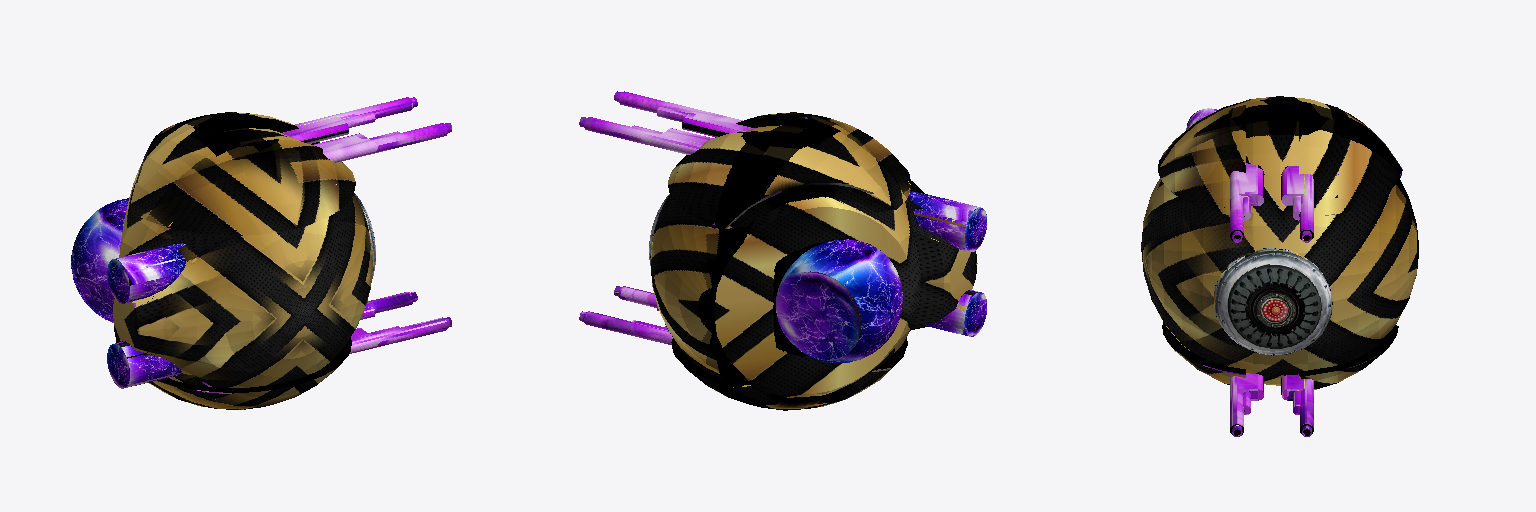
3 renders of one model, left to right at view 1: azimuth 30°, elevation 25°; view 2: azimuth 150°, elevation 25°; view 3: azimuth 270°, elevation 25°, orthographic.
Visible parts, largest first — view 1: Sphere.022_Sphere.048, Sphere.023_Sphere.049, Sphere.011_Sphere.037, Sphere.025_Sphere.051, Sphere.024_Sphere.050, Sphere.021_Sphere.047, Sphere.020_Sphere.046, Sphere.018_Sphere.044; view 2: Sphere.022_Sphere.048, Sphere.023_Sphere.049, Sphere.025_Sphere.051, Sphere.011_Sphere.037, Sphere.024_Sphere.050, Sphere.021_Sphere.047, Sphere.020_Sphere.046, Sphere.019_Sphere.045; view 3: Sphere.022_Sphere.048, Sphere.023_Sphere.049, Sphere.015_Sphere.041, Sphere.011_Sphere.037, Sphere.024_Sphere.050.
Boxes of the visible parts, <box> form: Sphere.022_Sphere.048: <box>113,128,372,387</box>; Sphere.023_Sphere.049: <box>129,112,355,235</box>; Sphere.011_Sphere.037: <box>282,97,451,353</box>; Sphere.025_Sphere.051: <box>71,198,128,322</box>; Sphere.024_Sphere.050: <box>149,337,351,409</box>; Sphere.021_Sphere.047: <box>107,243,185,303</box>; Sphere.020_Sphere.046: <box>107,341,181,388</box>; Sphere.018_Sphere.044: <box>293,123,348,143</box>; Sphere.022_Sphere.048: <box>651,125,977,397</box>; Sphere.023_Sphere.049: <box>668,112,911,228</box>; Sphere.025_Sphere.051: <box>776,239,902,363</box>; Sphere.011_Sphere.037: <box>579,91,754,344</box>; Sphere.024_Sphere.050: <box>671,337,907,410</box>; Sphere.021_Sphere.047: <box>909,191,986,251</box>; Sphere.020_Sphere.046: <box>926,290,986,336</box>; Sphere.019_Sphere.045: <box>682,118,738,137</box>; Sphere.022_Sphere.048: <box>1141,110,1418,385</box>; Sphere.023_Sphere.049: <box>1158,96,1402,217</box>; Sphere.015_Sphere.041: <box>1214,248,1331,355</box>; Sphere.011_Sphere.037: <box>1230,163,1313,436</box>; Sphere.024_Sphere.050: <box>1162,322,1398,389</box>.
Size of the model in its own units: 1.37 by 1.02 by 0.9569.
1 materials, 1 textured.